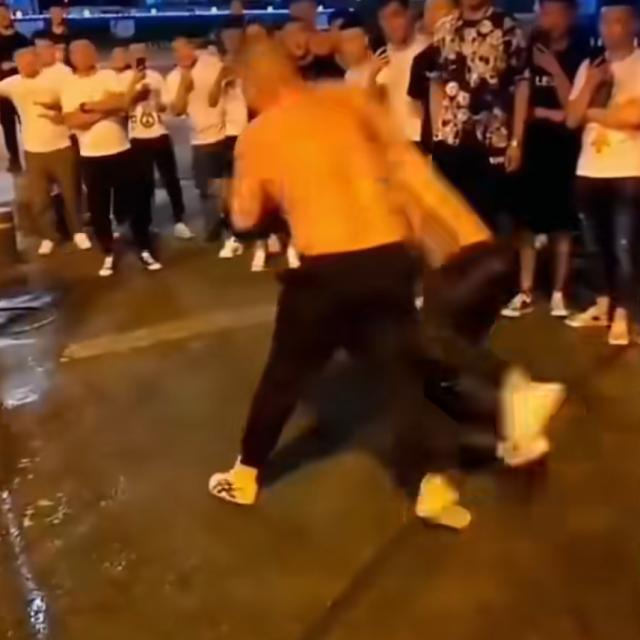fight: (235, 54, 525, 379)
nofight: (513, 0, 590, 339), (568, 3, 640, 358), (0, 39, 75, 251), (66, 39, 132, 276)
